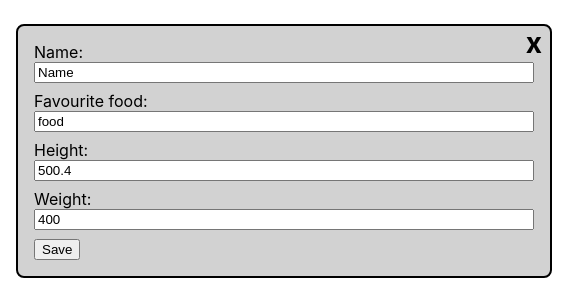
Test case: Modal component › renders a name input which is required
Clear the field labelled "Name:" at {"x": 284, "y": 72}, box [34,62,534,83]
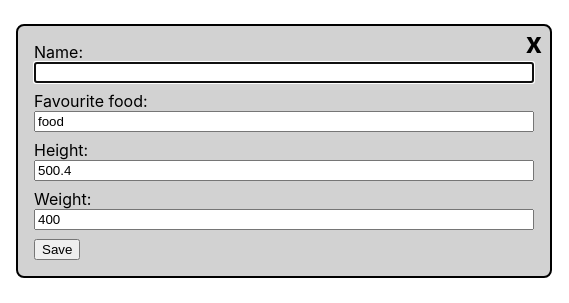
Click the button at {"x": 57, "y": 250}, box [34,239,80,260]
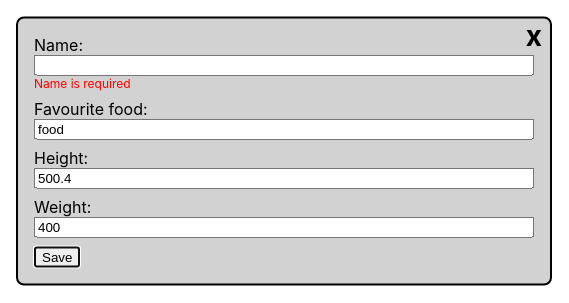
Expected: the text "Name is required" is shown, [34,76,131,90]
